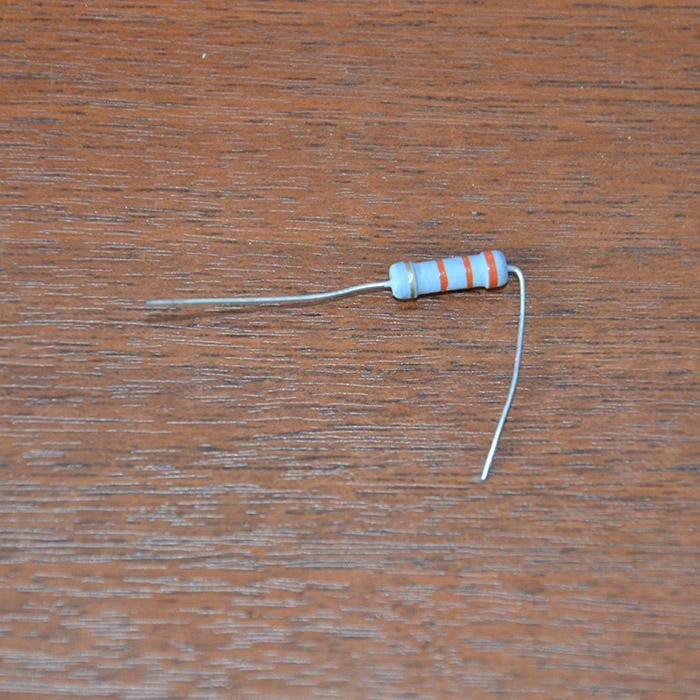resistor: (388, 247, 508, 301)
